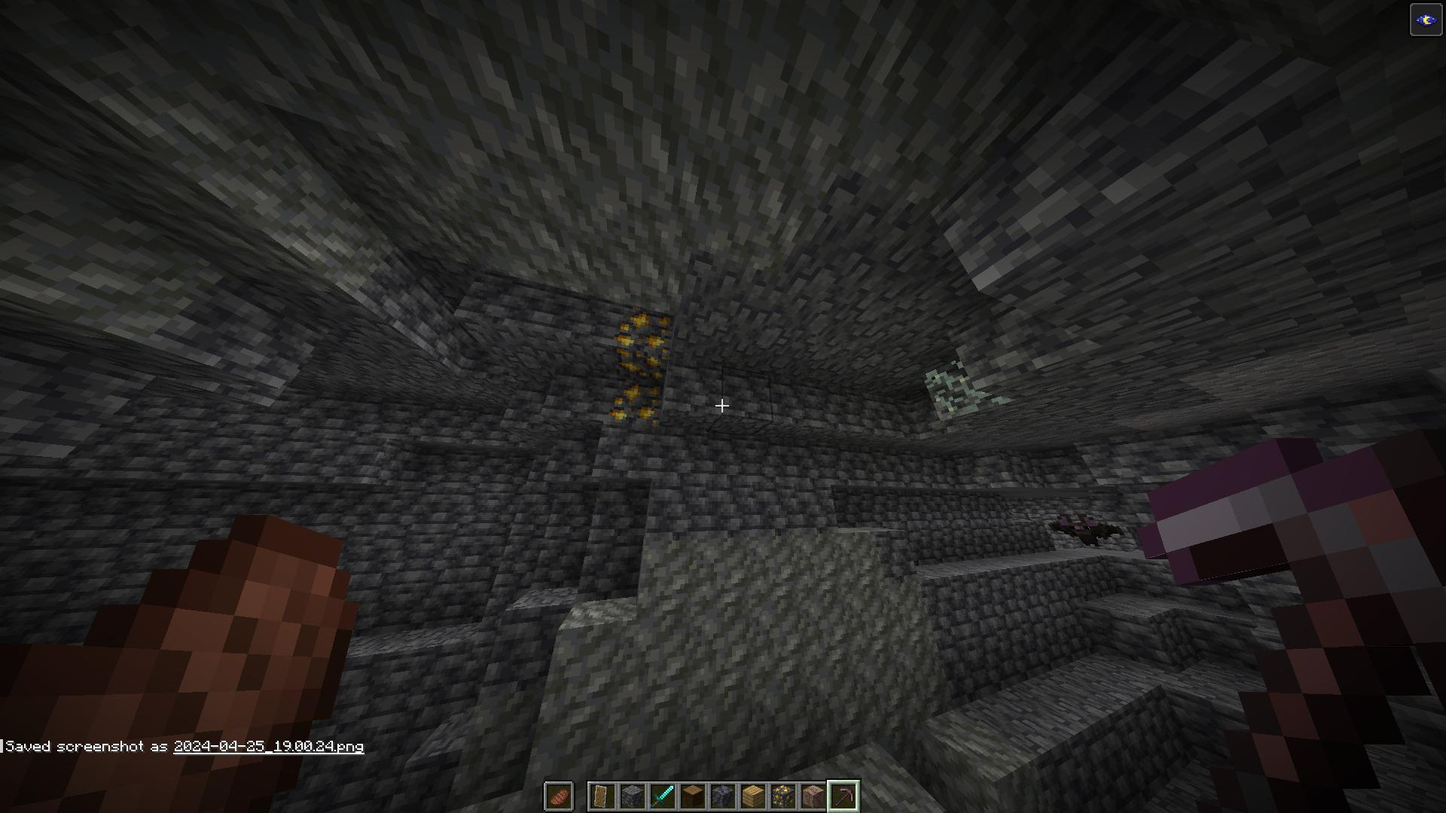gold ore: (613, 306, 675, 384), (608, 381, 664, 425)
